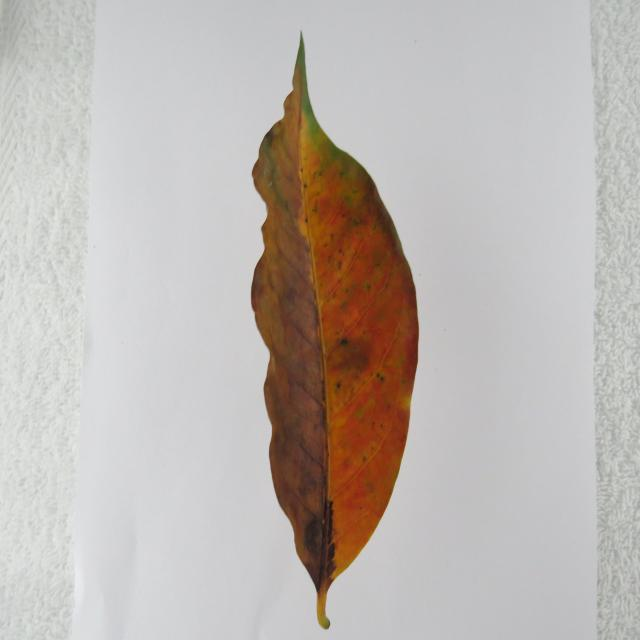DeficienciaNutricional-Fosforo: (251, 37, 419, 628)
